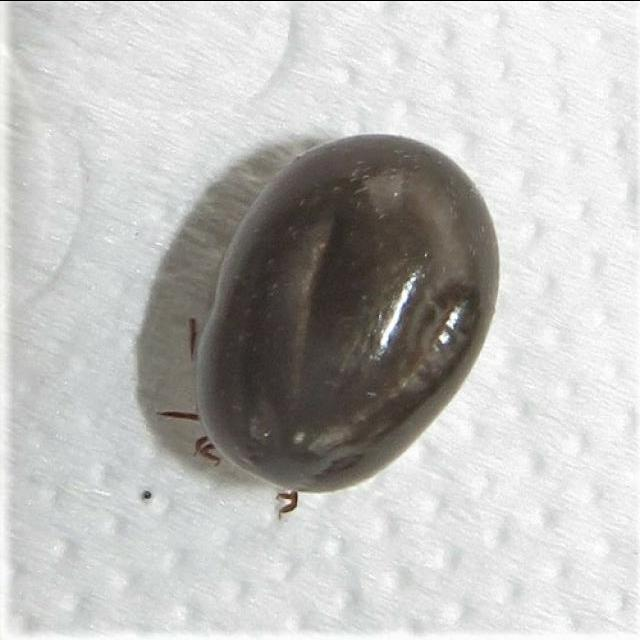Rhipicephalus Sanguineus-F-Fed: (157, 134, 499, 518)
